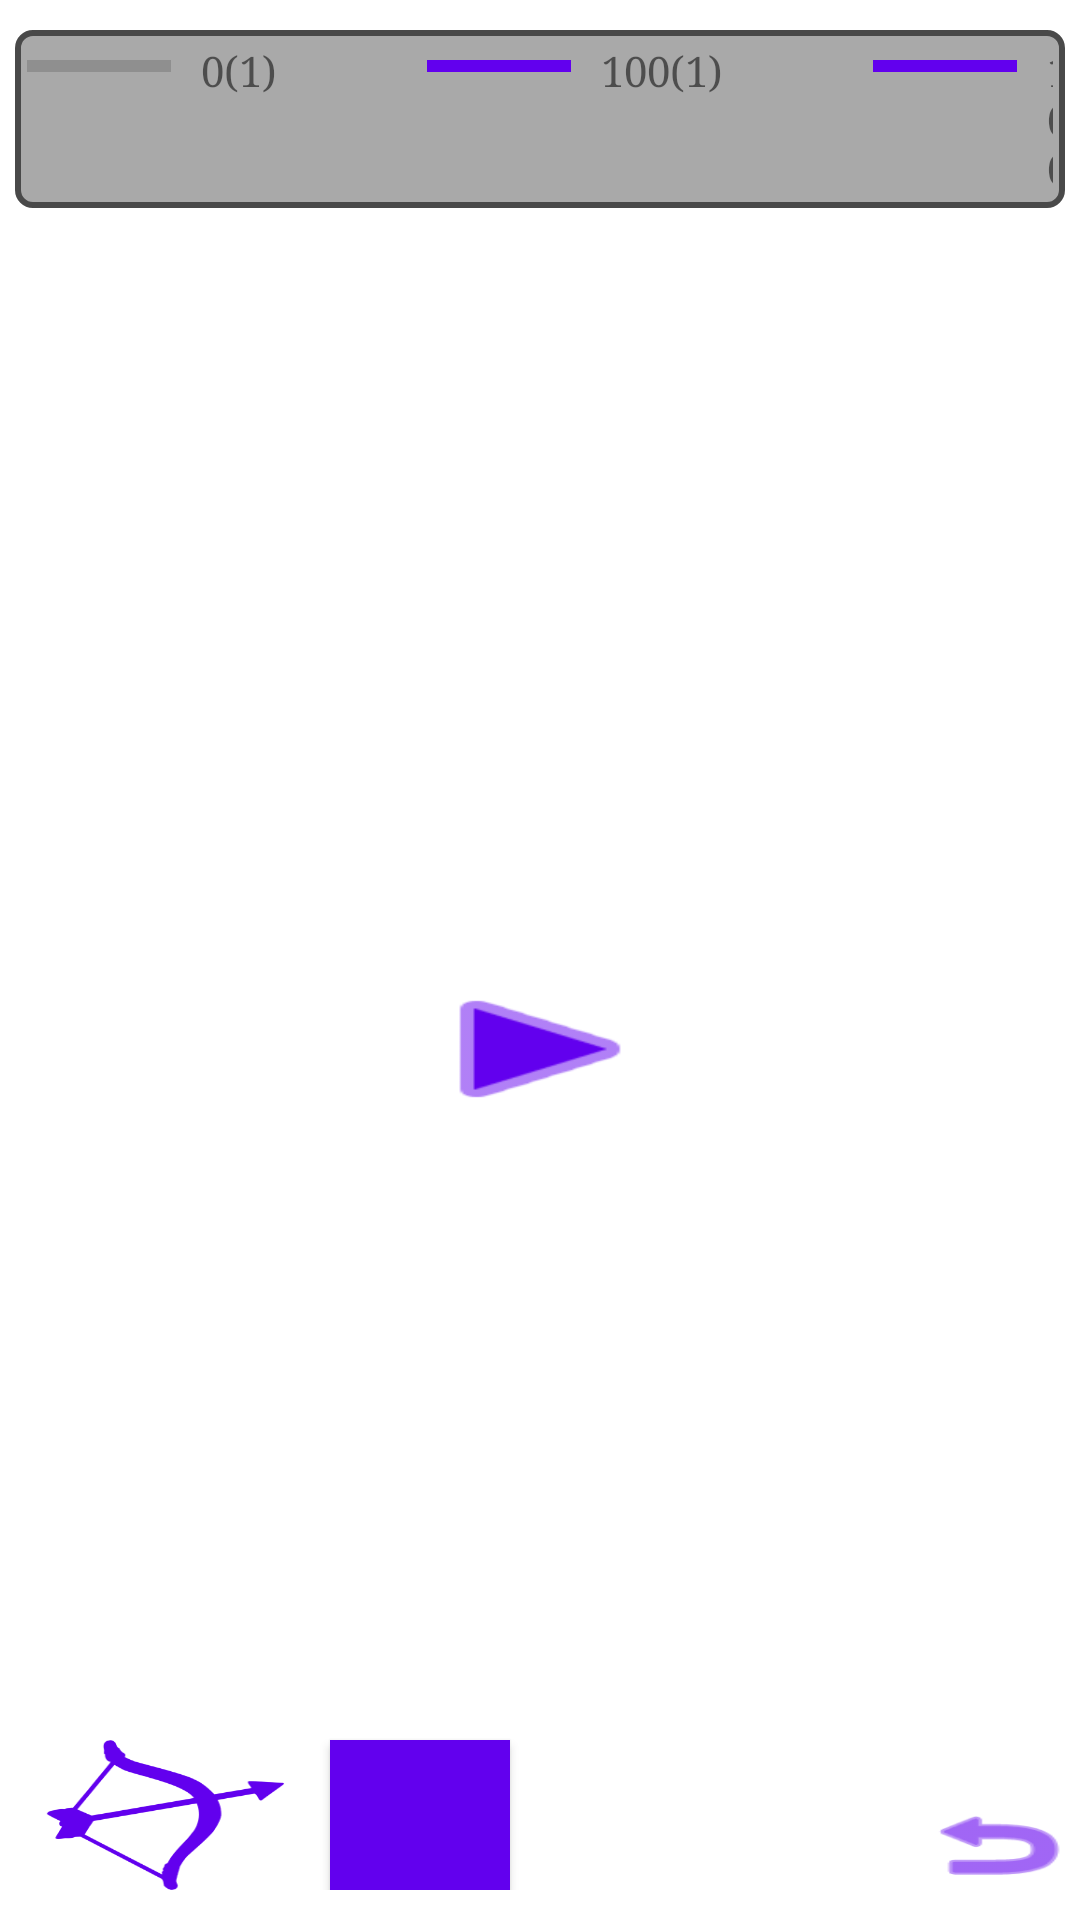

Screen size 1080x1920. Icon name, then its box in pixels as (x1, y1, x2, y2):
ataque: (47, 1740, 284, 1890)
play: (459, 1001, 621, 1097)
revert: (940, 1816, 1059, 1875)
